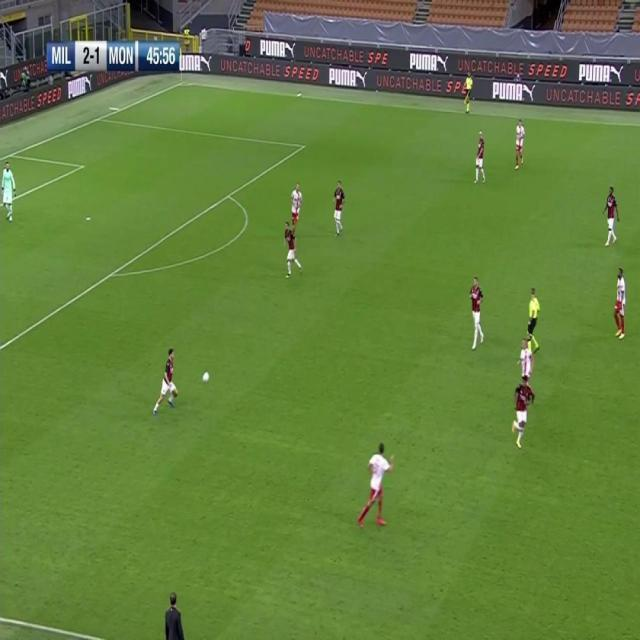ball: (201, 369, 211, 384)
goalkeeper: (1, 159, 17, 223)
player: (357, 440, 395, 531), (153, 346, 181, 417), (510, 375, 533, 452), (469, 275, 486, 352), (283, 221, 303, 283), (612, 266, 628, 343), (601, 185, 620, 247), (333, 178, 347, 239), (473, 128, 487, 187), (513, 117, 526, 172), (289, 180, 302, 232), (517, 337, 533, 376)
referee: (526, 285, 542, 350), (462, 70, 474, 115)
